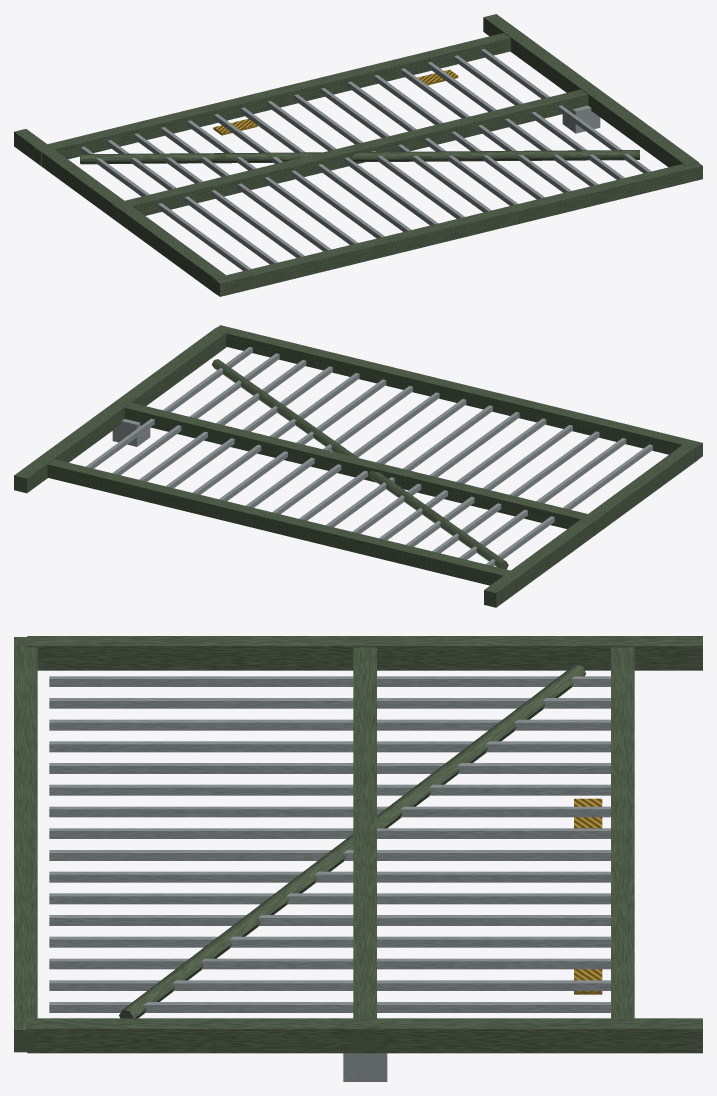
File: Gate_Leaf_LEFT_3m.glb
The picture shows the model from 3 angles, top to bottom: view 1: azimuth 30°, elevation 25°; view 2: azimuth 150°, elevation 25°; view 3: azimuth 270°, elevation 25°; orthographic projection. The views are drawn at different scales.
Parts seen in each view (by area): view 1: Gate_Leaf_LEFT_3m__LEFT_HORIZONTAL_RAIL_2.25, Gate_Leaf_LEFT_3m__LEFT_HORIZONTAL_RAIL_0.35, Gate_Leaf_LEFT_3m__LEFT_HORIZONTAL_RAIL_1.17, Gate_Leaf_LEFT_3m__LEFT_UPRIGHT_HINGE, Gate_Leaf_LEFT_3m__LEFT_UPRIGHT_TIP, Gate_Leaf_LEFT_3m__LEFT_CORNER_BRACE, Gate_Leaf_LEFT_3m__LEFT_SECURITY_BAR_08, Gate_Leaf_LEFT_3m__LEFT_SECURITY_BAR_07, Gate_Leaf_LEFT_3m__LEFT_SECURITY_BAR_09, Gate_Leaf_LEFT_3m__LEFT_SECURITY_BAR_04, Gate_Leaf_LEFT_3m__LEFT_SECURITY_BAR_11, Gate_Leaf_LEFT_3m__LEFT_SECURITY_BAR_14 (+11 smaller); view 2: Gate_Leaf_LEFT_3m__LEFT_HORIZONTAL_RAIL_0.35, Gate_Leaf_LEFT_3m__LEFT_HORIZONTAL_RAIL_2.25, Gate_Leaf_LEFT_3m__LEFT_HORIZONTAL_RAIL_1.17, Gate_Leaf_LEFT_3m__LEFT_UPRIGHT_HINGE, Gate_Leaf_LEFT_3m__LEFT_UPRIGHT_TIP, Gate_Leaf_LEFT_3m__LEFT_CORNER_BRACE, Gate_Leaf_LEFT_3m__LEFT_SECURITY_BAR_08, Gate_Leaf_LEFT_3m__LEFT_SECURITY_BAR_09, Gate_Leaf_LEFT_3m__LEFT_SECURITY_BAR_05, Gate_Leaf_LEFT_3m__LEFT_SECURITY_BAR_11, Gate_Leaf_LEFT_3m__LEFT_SECURITY_BAR_12, Gate_Leaf_LEFT_3m__LEFT_SECURITY_BAR_03 (+11 smaller); view 3: Gate_Leaf_LEFT_3m__LEFT_UPRIGHT_TIP, Gate_Leaf_LEFT_3m__LEFT_UPRIGHT_HINGE, Gate_Leaf_LEFT_3m__LEFT_HORIZONTAL_RAIL_2.25, Gate_Leaf_LEFT_3m__LEFT_HORIZONTAL_RAIL_0.35, Gate_Leaf_LEFT_3m__LEFT_HORIZONTAL_RAIL_1.17, Gate_Leaf_LEFT_3m__LEFT_CORNER_BRACE, Gate_Leaf_LEFT_3m__LEFT_SECURITY_BAR_13, Gate_Leaf_LEFT_3m__LEFT_SECURITY_BAR_06, Gate_Leaf_LEFT_3m__LEFT_SECURITY_BAR_03, Gate_Leaf_LEFT_3m__LEFT_SECURITY_BAR_10, Gate_Leaf_LEFT_3m__LEFT_SECURITY_BAR_07, Gate_Leaf_LEFT_3m__LEFT_SECURITY_BAR_14 (+11 smaller).
Part boxes in pixels (box(x1,y1,x2,y2)): Gate_Leaf_LEFT_3m__LEFT_HORIZONTAL_RAIL_2.25: box(213, 163, 702, 296); Gate_Leaf_LEFT_3m__LEFT_HORIZONTAL_RAIL_0.35: box(34, 33, 510, 165); Gate_Leaf_LEFT_3m__LEFT_HORIZONTAL_RAIL_1.17: box(111, 89, 588, 222); Gate_Leaf_LEFT_3m__LEFT_UPRIGHT_HINGE: box(14, 129, 228, 294); Gate_Leaf_LEFT_3m__LEFT_UPRIGHT_TIP: box(483, 14, 698, 167); Gate_Leaf_LEFT_3m__LEFT_CORNER_BRACE: box(80, 150, 639, 164); Gate_Leaf_LEFT_3m__LEFT_SECURITY_BAR_08: box(267, 101, 437, 225); Gate_Leaf_LEFT_3m__LEFT_SECURITY_BAR_07: box(240, 107, 411, 231); Gate_Leaf_LEFT_3m__LEFT_SECURITY_BAR_09: box(294, 94, 464, 218); Gate_Leaf_LEFT_3m__LEFT_SECURITY_BAR_04: box(160, 127, 331, 251); Gate_Leaf_LEFT_3m__LEFT_SECURITY_BAR_11: box(347, 81, 517, 205); Gate_Leaf_LEFT_3m__LEFT_SECURITY_BAR_14: box(427, 62, 598, 186); Gate_Leaf_LEFT_3m__LEFT_HORIZONTAL_RAIL_0.35: box(47, 459, 523, 591); Gate_Leaf_LEFT_3m__LEFT_HORIZONTAL_RAIL_2.25: box(217, 325, 702, 460); Gate_Leaf_LEFT_3m__LEFT_HORIZONTAL_RAIL_1.17: box(124, 403, 601, 535); Gate_Leaf_LEFT_3m__LEFT_UPRIGHT_HINGE: box(484, 442, 698, 607); Gate_Leaf_LEFT_3m__LEFT_UPRIGHT_TIP: box(14, 327, 228, 493); Gate_Leaf_LEFT_3m__LEFT_CORNER_BRACE: box(211, 359, 508, 569); Gate_Leaf_LEFT_3m__LEFT_SECURITY_BAR_08: box(299, 399, 466, 520); Gate_Leaf_LEFT_3m__LEFT_SECURITY_BAR_09: box(272, 392, 439, 514); Gate_Leaf_LEFT_3m__LEFT_SECURITY_BAR_05: box(379, 418, 546, 540); Gate_Leaf_LEFT_3m__LEFT_SECURITY_BAR_11: box(219, 379, 386, 501); Gate_Leaf_LEFT_3m__LEFT_SECURITY_BAR_12: box(192, 373, 359, 494); Gate_Leaf_LEFT_3m__LEFT_SECURITY_BAR_03: box(432, 431, 599, 553); Gate_Leaf_LEFT_3m__LEFT_UPRIGHT_TIP: box(27, 1018, 702, 1053); Gate_Leaf_LEFT_3m__LEFT_UPRIGHT_HINGE: box(27, 636, 702, 670); Gate_Leaf_LEFT_3m__LEFT_HORIZONTAL_RAIL_2.25: box(14, 637, 37, 1052); Gate_Leaf_LEFT_3m__LEFT_HORIZONTAL_RAIL_0.35: box(611, 647, 634, 1052); Gate_Leaf_LEFT_3m__LEFT_HORIZONTAL_RAIL_1.17: box(353, 647, 376, 1051); Gate_Leaf_LEFT_3m__LEFT_CORNER_BRACE: box(119, 664, 585, 1018); Gate_Leaf_LEFT_3m__LEFT_SECURITY_BAR_13: box(49, 936, 610, 947); Gate_Leaf_LEFT_3m__LEFT_SECURITY_BAR_06: box(49, 784, 610, 795); Gate_Leaf_LEFT_3m__LEFT_SECURITY_BAR_03: box(49, 719, 610, 730); Gate_Leaf_LEFT_3m__LEFT_SECURITY_BAR_10: box(49, 871, 610, 882); Gate_Leaf_LEFT_3m__LEFT_SECURITY_BAR_07: box(49, 806, 610, 817); Gate_Leaf_LEFT_3m__LEFT_SECURITY_BAR_14: box(49, 958, 610, 969).
Bounding box in the file's own units: 2.96 × 0.198 × 2.19.
3 materials, 3 textured.
